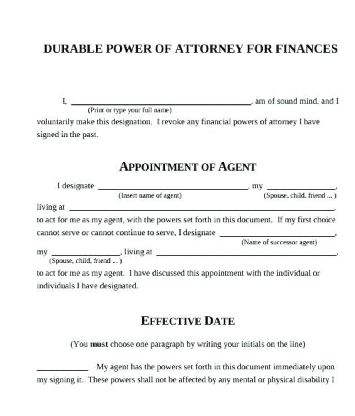textline: (66, 199, 337, 214), (68, 94, 253, 107), (155, 245, 338, 258), (97, 177, 252, 191), (216, 224, 338, 239), (49, 243, 123, 258), (266, 177, 337, 192), (33, 358, 91, 373)
